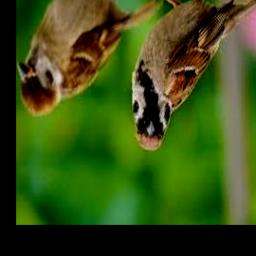Sparrow: (133, 0, 256, 151), (18, 0, 162, 116)
